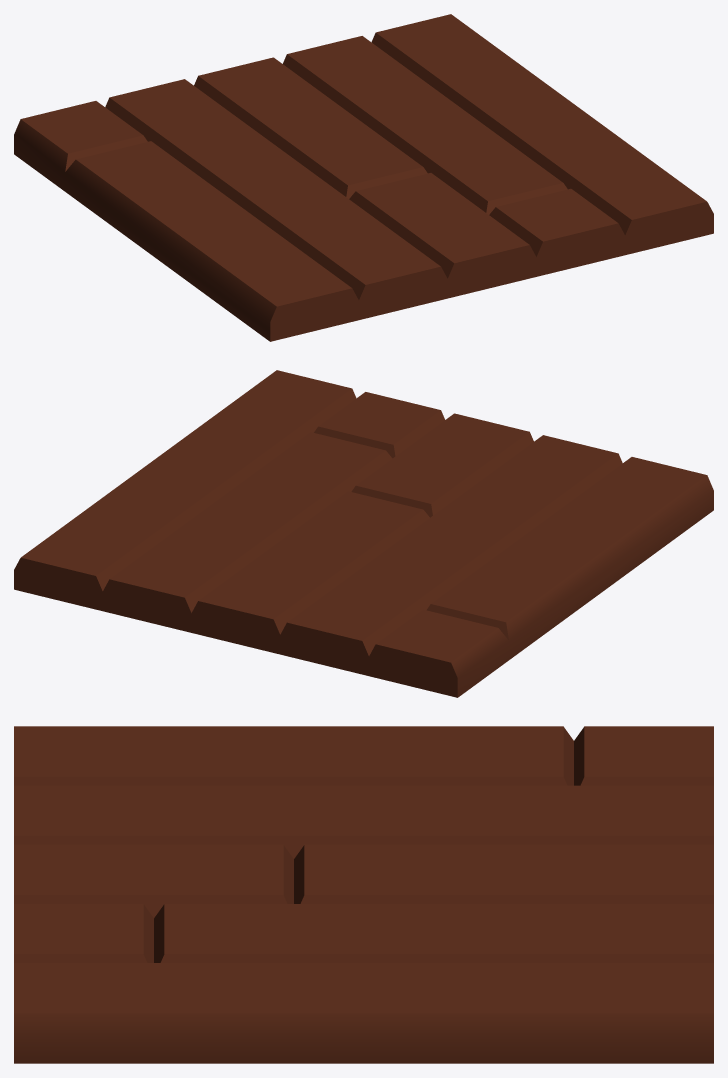
The model's file is Wood_Floor_1.fbx.
3 renders of one model, top to bottom at view 1: azimuth 30°, elevation 25°; view 2: azimuth 150°, elevation 25°; view 3: azimuth 270°, elevation 25°, orthographic. The views are drawn at different scales.
Parts seen in each view (by area): view 1: Wood_Floor_2_LOD0; view 2: Wood_Floor_2_LOD0; view 3: Wood_Floor_2_LOD0.
Boxes of the visible parts, bbox=[...] form: Wood_Floor_2_LOD0: bbox=[14, 14, 713, 341]; Wood_Floor_2_LOD0: bbox=[14, 370, 713, 697]; Wood_Floor_2_LOD0: bbox=[14, 726, 713, 1063].
Size of what is drawn, in the model's own units: 0.01 by 0.000724 by 0.01.
